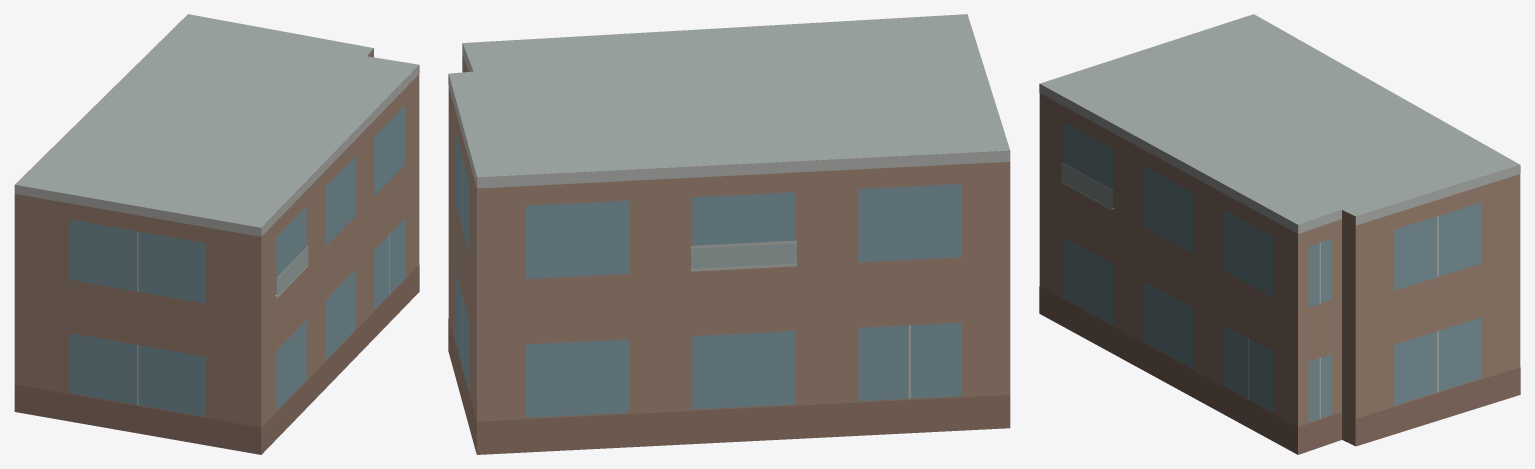
The model's file is survey-upis-32722669.glb.
3 views of the same model, side by side, from view 1: azimuth 30°, elevation 25°; view 2: azimuth 150°, elevation 25°; view 3: azimuth 270°, elevation 25° (orthographic). The views are drawn at different scales.
Parts seen in each view (by area): view 1: survey-upis-32722669.tmp; view 2: survey-upis-32722669.tmp; view 3: survey-upis-32722669.tmp.
Boxes of the visible parts, x1=… form: survey-upis-32722669.tmp: x1=14, y1=14, x2=419, y2=454; survey-upis-32722669.tmp: x1=448, y1=14, x2=1010, y2=454; survey-upis-32722669.tmp: x1=1039, y1=14, x2=1520, y2=454.
Size of the model in its own units: 12 by 6.1 by 11.57.
